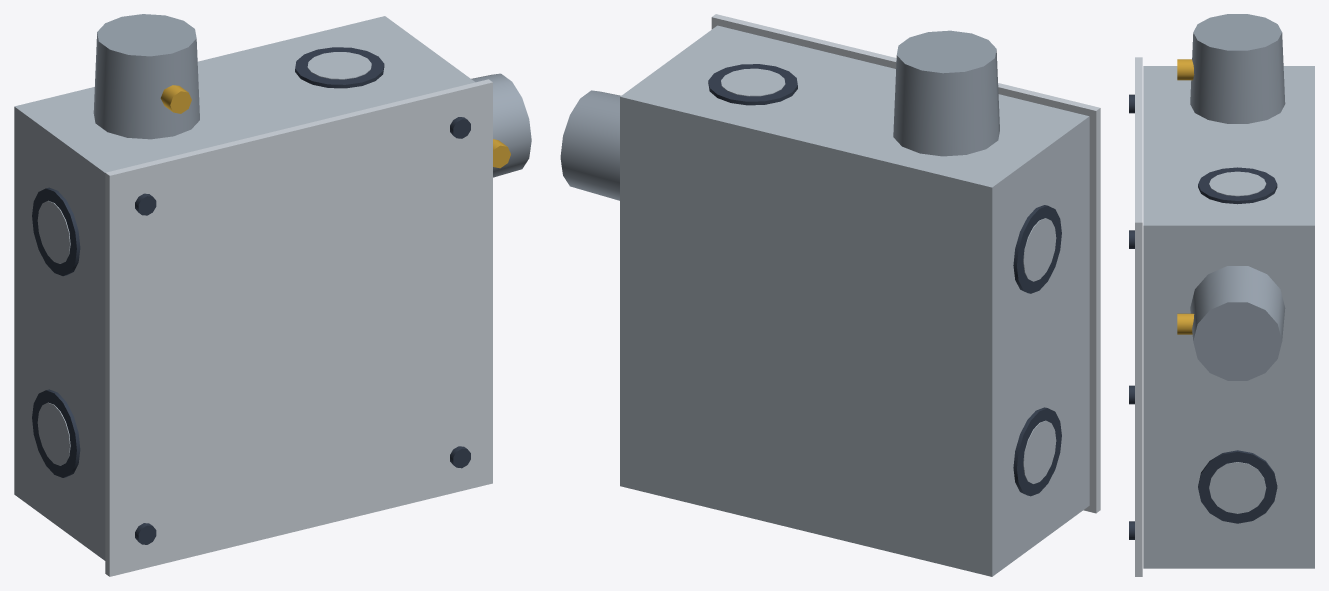
The picture shows the model from 3 angles, left to right: view 1: azimuth 30°, elevation 25°; view 2: azimuth 150°, elevation 25°; view 3: azimuth 270°, elevation 25°; orthographic projection. The views are drawn at different scales.
Parts seen in each view (by area): view 1: cad-box-4-11-16-2.125; view 2: cad-box-4-11-16-2.125; view 3: cad-box-4-11-16-2.125.
Part boxes in pixels (x1=…): cad-box-4-11-16-2.125: x1=14, y1=14, x2=531, y2=576; cad-box-4-11-16-2.125: x1=560, y1=14, x2=1100, y2=576; cad-box-4-11-16-2.125: x1=1129, y1=14, x2=1314, y2=576.
Size of the model in its own units: 0.1461 by 0.1461 by 0.0585.
